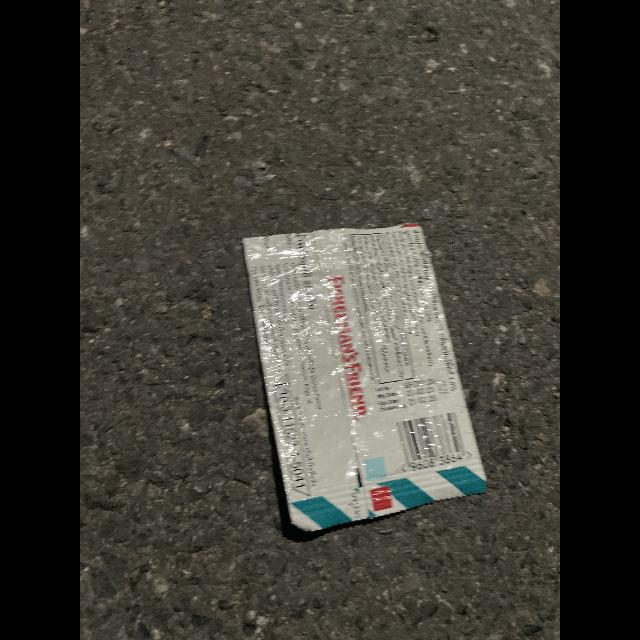snack_bag: (223, 218, 502, 546)
